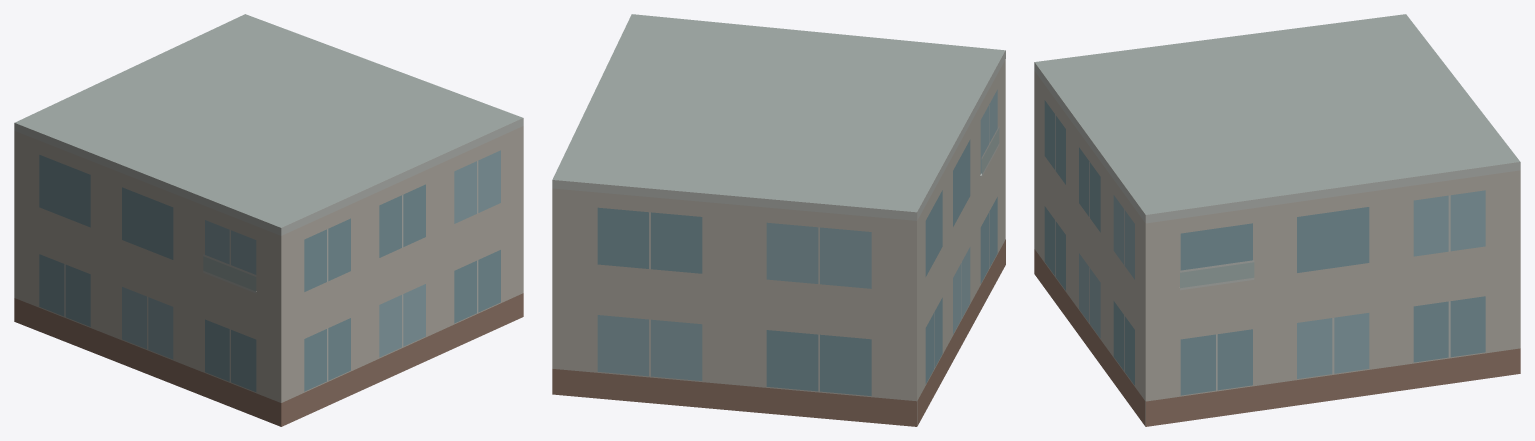
Rendered from survey-upis-32586406.glb.
3 views of the same model, side by side, from view 1: azimuth 30°, elevation 25°; view 2: azimuth 150°, elevation 25°; view 3: azimuth 270°, elevation 25° (orthographic). The views are drawn at different scales.
Visible parts, largest first — view 1: survey-upis-32586406.tmp; view 2: survey-upis-32586406.tmp; view 3: survey-upis-32586406.tmp.
Part boxes in pixels (x1,y1,x2,y2): survey-upis-32586406.tmp: [14, 14, 523, 426]; survey-upis-32586406.tmp: [552, 14, 1005, 426]; survey-upis-32586406.tmp: [1034, 14, 1520, 426].
Size of the model in its own units: 12.42 by 6.1 by 12.7.
